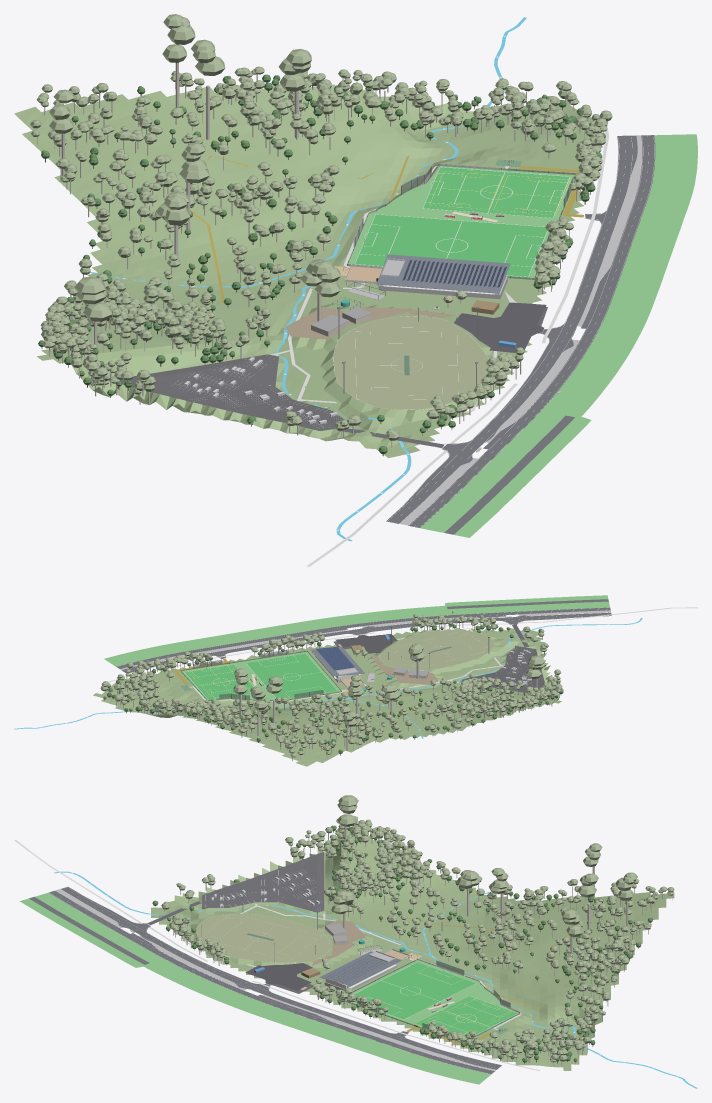
The model's file is KHFR_stage3_winter.glb.
3 views of the same model, one above another, from view 1: azimuth 30°, elevation 25°; view 2: azimuth 150°, elevation 25°; view 3: azimuth 270°, elevation 25° (orthographic). The views are drawn at different scales.
Visible parts, largest first — view 1: Reserve terrain, Bushland forest (euc_can), Road reserve (far verge), Bush planting zones (euc_can), Existing Ground 1 (worn turf), Pitch 3, Swansea Rd NE-bound (surveyed both edges), Giant eucalypts (canopies), New car park (~220), Pitch 4, Swansea Rd SW-bound (2 lanes, smooth), Tennis precinct bush retained (euc_can) (+18 smaller); view 2: Reserve terrain, Bushland forest (euc_can), Road reserve (far verge), Bush planting zones (euc_can), Existing Ground 1 (worn turf), Pitch 3, Giant eucalypts (canopies), Swansea Rd SW-bound (2 lanes, smooth), Tennis precinct bush retained (euc_can), Swansea Rd NE-bound (surveyed both edges), Pitch 4, New car park (~220) (+14 smaller); view 3: Reserve terrain, Bushland forest (euc_can), Road reserve (far verge), Bush planting zones (euc_can), Existing Ground 1 (worn turf), New car park (~220), Pitch 3, Swansea Rd NE-bound (surveyed both edges), Giant eucalypts (canopies), Tennis precinct bush retained (euc_can), Swansea Rd SW-bound (2 lanes, smooth), Pitch 4 (+16 smaller).
Part boxes in pixels (x1=…): Reserve terrain: x1=14, y1=84, x2=605, y2=457; Bushland forest (euc_can): x1=30, y1=71, x2=399, y2=440; Road reserve (far verge): x1=420, y1=134, x2=697, y2=537; Bush planting zones (euc_can): x1=215, y1=66, x2=612, y2=414; Existing Ground 1 (worn turf): x1=333, y1=316, x2=489, y2=409; Pitch 3: x1=355, y1=214, x2=547, y2=276; Swansea Rd NE-bound (surveyed both edges): x1=386, y1=135, x2=637, y2=523; Giant eucalypts (canopies): x1=49, y1=14, x2=311, y2=321; New car park (~220): x1=119, y1=354, x2=352, y2=430; Pitch 4: x1=423, y1=167, x2=569, y2=217; Swansea Rd SW-bound (2 lanes, smooth): x1=408, y1=135, x2=655, y2=527; Tennis precinct bush retained (euc_can): x1=40, y1=295, x2=232, y2=385; Reserve terrain: x1=93, y1=628, x2=561, y2=766; Bushland forest (euc_can): x1=183, y1=626, x2=561, y2=757; Road reserve (far verge): x1=104, y1=595, x2=609, y2=666; Bush planting zones (euc_can): x1=100, y1=614, x2=496, y2=727; Existing Ground 1 (worn turf): x1=379, y1=629, x2=494, y2=669; Pitch 3: x1=246, y1=653, x2=337, y2=698; Giant eucalypts (canopies): x1=233, y1=655, x2=545, y2=726; Swansea Rd SW-bound (2 lanes, smooth): x1=116, y1=607, x2=610, y2=668; Tennis precinct bush retained (euc_can): x1=455, y1=676, x2=563, y2=715; Swansea Rd NE-bound (surveyed both edges): x1=121, y1=612, x2=611, y2=673; Pitch 4: x1=185, y1=664, x2=253, y2=699; New car park (~220): x1=462, y1=645, x2=544, y2=692; Reserve terrain: x1=151, y1=831, x2=674, y2=1070; Bushland forest (euc_can): x1=161, y1=823, x2=674, y2=985; Road reserve (far verge): x1=20, y1=892, x2=490, y2=1084; Bush planting zones (euc_can): x1=169, y1=914, x2=635, y2=1062; Existing Ground 1 (worn turf): x1=196, y1=913, x2=329, y2=962; New car park (~220): x1=202, y1=852, x2=324, y2=912; Pitch 3: x1=354, y1=962, x2=475, y2=1019; Swansea Rd NE-bound (surveyed both edges): x1=61, y1=887, x2=501, y2=1069; Giant eucalypts (canopies): x1=337, y1=795, x2=637, y2=937; Tennis precinct bush retained (euc_can): x1=298, y1=816, x2=417, y2=894; Swansea Rd SW-bound (2 lanes, smooth): x1=49, y1=890, x2=494, y2=1074; Pitch 4: x1=415, y1=996, x2=517, y2=1035.
Size of the model in its own units: 495 by 86.35 by 604.
